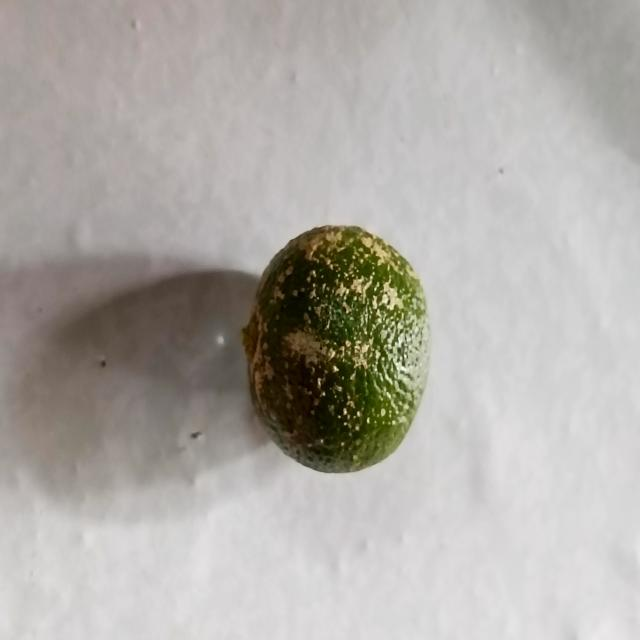scab: (239, 221, 434, 481)
